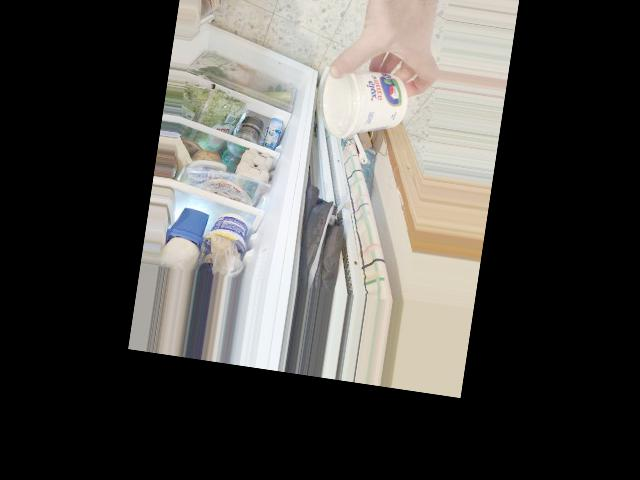cotage: (319, 57, 415, 145)
